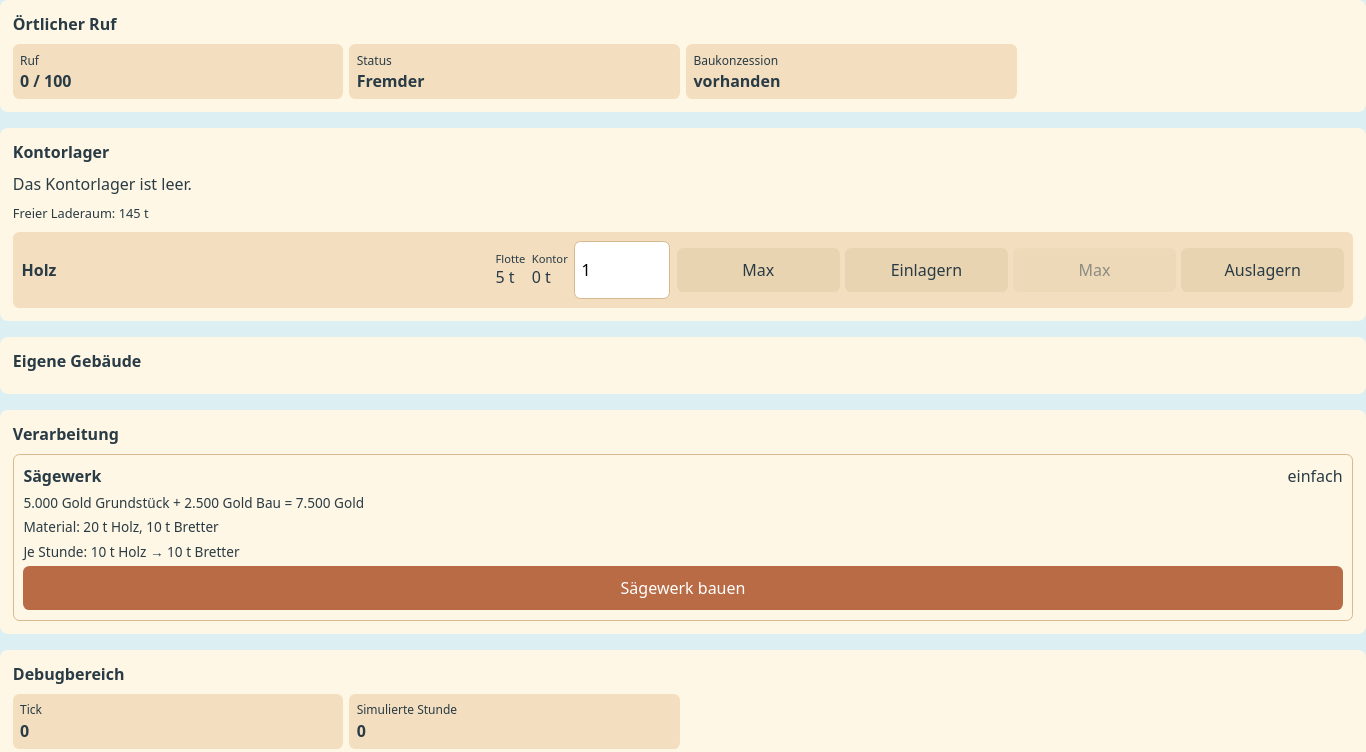
BuildingsView › shows the server error of a rejected transfer and reloads the confirmed state
Click the button "Einlagern" at (926, 270), box 845,248 -> 1008,292
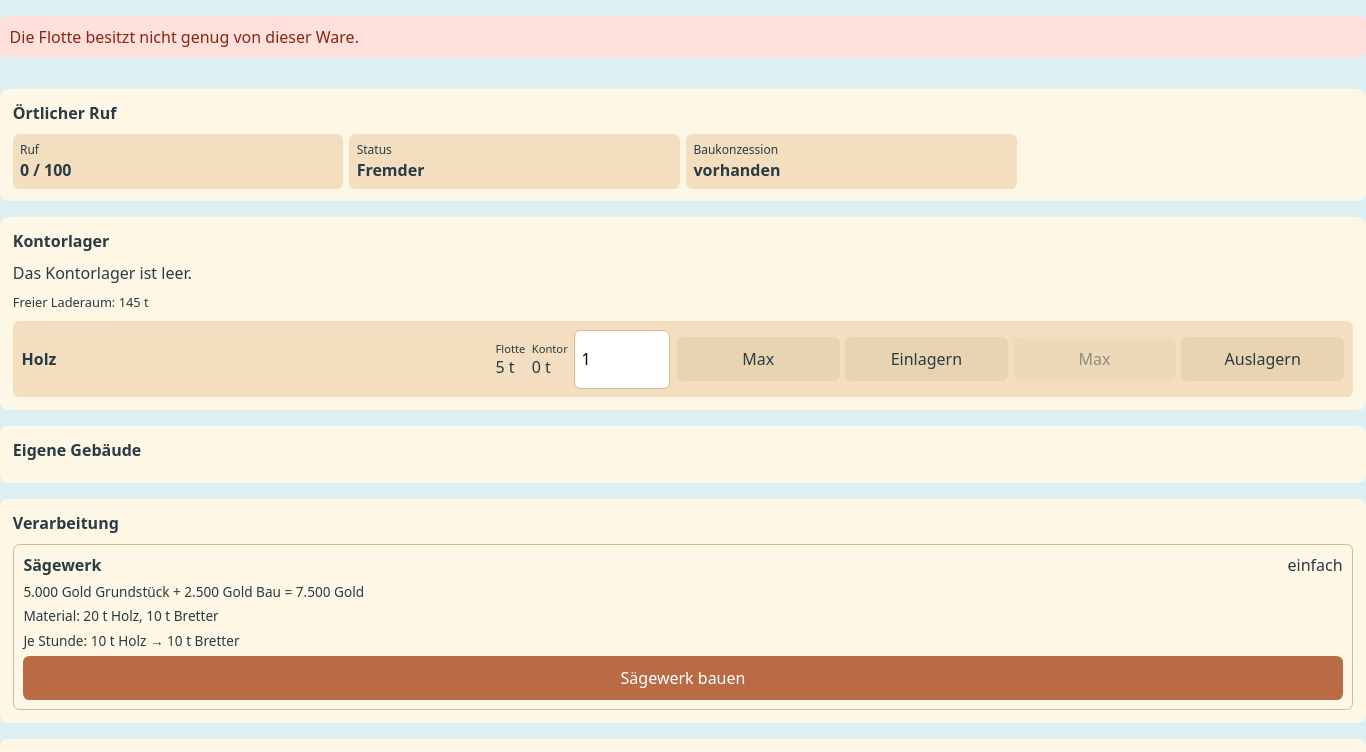
Expected: the message "Die Flotte besitzt nicht genug von dieser Ware." is shown, 0,16 -> 1365,57
